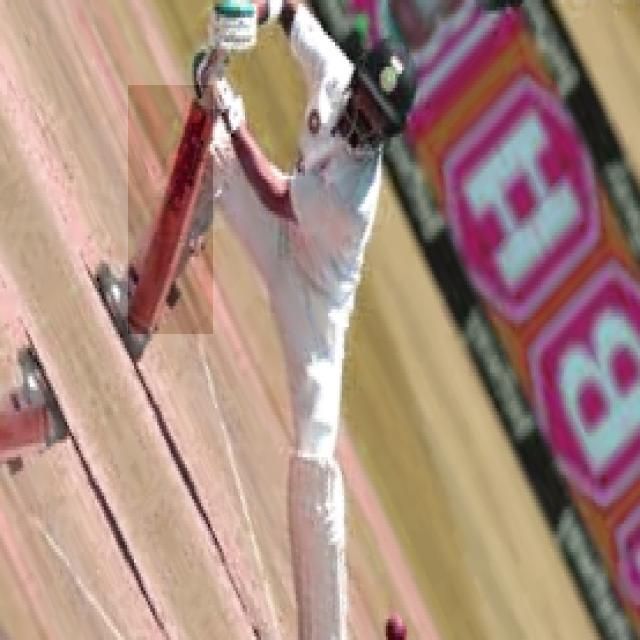bat: (129, 88, 217, 334), (116, 317, 160, 338)
